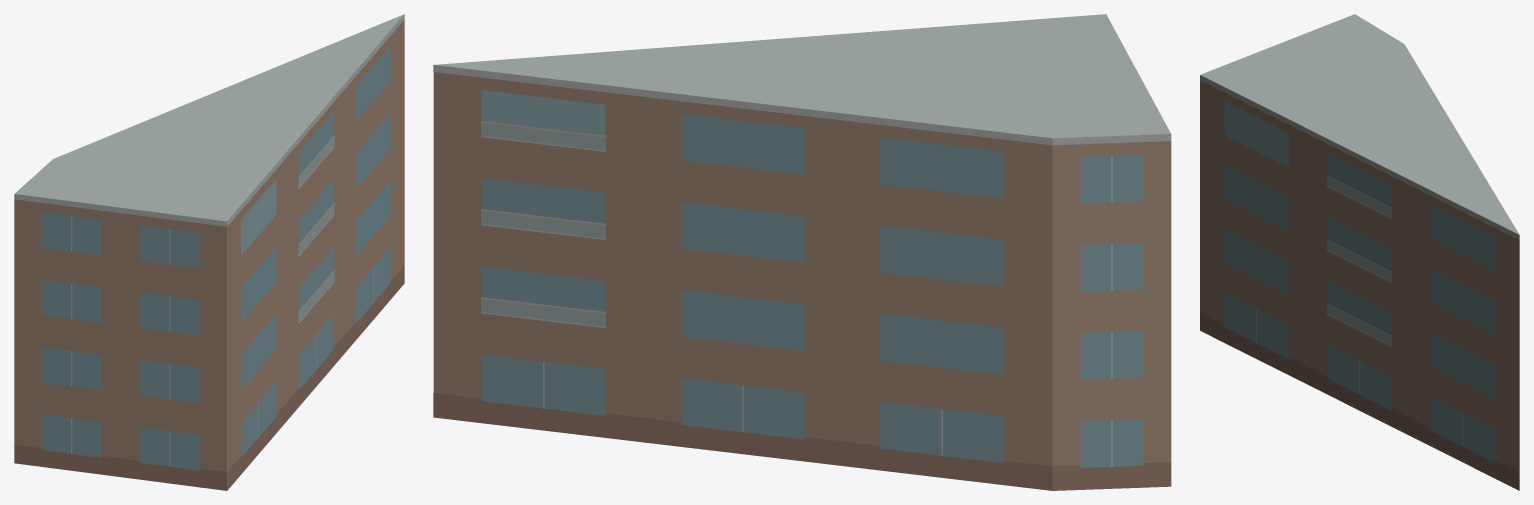
File: residential-43c0a6da-2600-40e4-8f8c-f88f43baf038.glb
The picture shows the model from 3 angles, left to right: view 1: azimuth 30°, elevation 25°; view 2: azimuth 150°, elevation 25°; view 3: azimuth 270°, elevation 25°; orthographic projection. The views are drawn at different scales.
Visible parts, largest first — view 1: residential-43c0a6da-2600-40e4-8f8c-f88f43baf038.tmp; view 2: residential-43c0a6da-2600-40e4-8f8c-f88f43baf038.tmp; view 3: residential-43c0a6da-2600-40e4-8f8c-f88f43baf038.tmp.
Boxes of the visible parts, x1,y1,x2,y2 form: residential-43c0a6da-2600-40e4-8f8c-f88f43baf038.tmp: (14, 14, 404, 490); residential-43c0a6da-2600-40e4-8f8c-f88f43baf038.tmp: (433, 14, 1171, 490); residential-43c0a6da-2600-40e4-8f8c-f88f43baf038.tmp: (1200, 14, 1519, 490).
Bounding box in the file's own units: 22.61 × 12.2 × 13.83.
